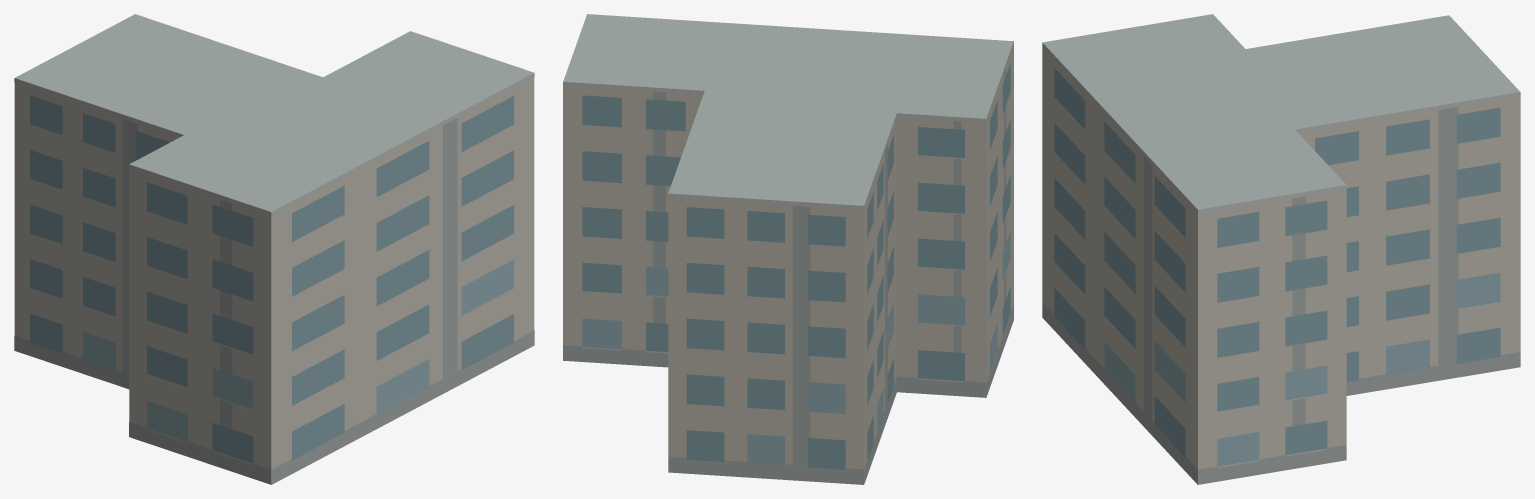
Rendered from residential-d14fd51f-90ad-4373-bb2a-3d0f55193445.glb.
The picture shows the model from 3 angles, left to right: view 1: azimuth 30°, elevation 25°; view 2: azimuth 150°, elevation 25°; view 3: azimuth 270°, elevation 25°; orthographic projection. The views are drawn at different scales.
Parts seen in each view (by area): view 1: residential-d14fd51f-90ad-4373-bb2a-3d0f55193445.tmp; view 2: residential-d14fd51f-90ad-4373-bb2a-3d0f55193445.tmp; view 3: residential-d14fd51f-90ad-4373-bb2a-3d0f55193445.tmp.
Part boxes in pixels (bbox=[...]): residential-d14fd51f-90ad-4373-bb2a-3d0f55193445.tmp: bbox=[14, 14, 534, 484]; residential-d14fd51f-90ad-4373-bb2a-3d0f55193445.tmp: bbox=[563, 14, 1013, 484]; residential-d14fd51f-90ad-4373-bb2a-3d0f55193445.tmp: bbox=[1042, 14, 1520, 484].
Bounding box in the file's own units: 23.28 × 15.25 × 24.03.
